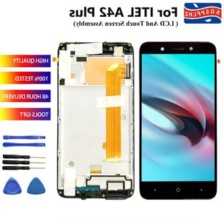phone: (136, 35, 218, 203), (54, 37, 136, 201)
